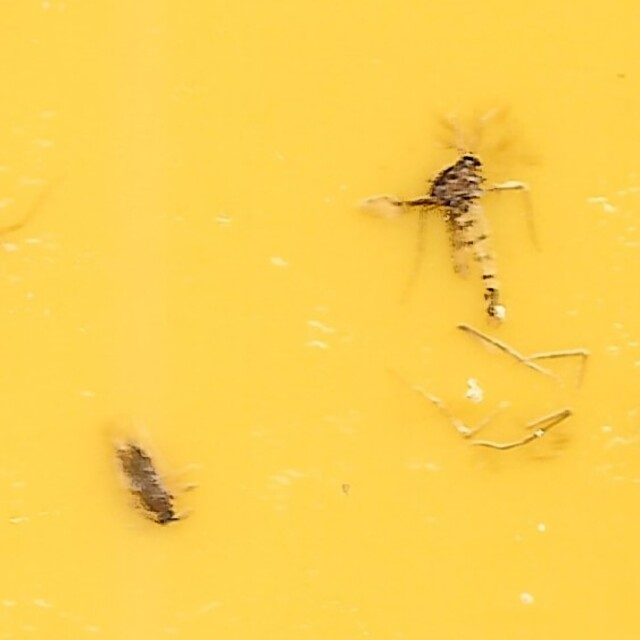Hymenoptera: (114, 435, 190, 532)
Nematocera: (360, 108, 526, 331)
